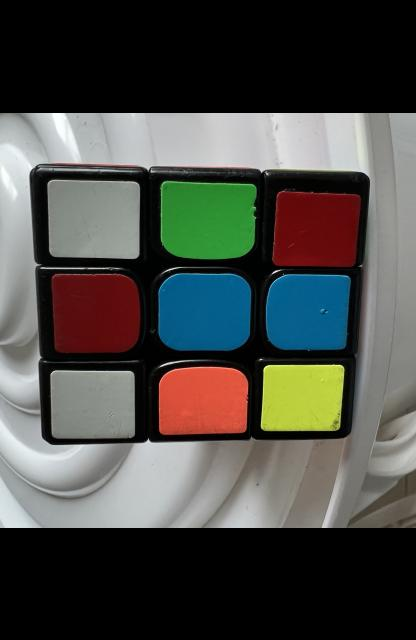Blue: (158, 272, 252, 349), (266, 273, 350, 349)
Green: (160, 180, 257, 258)
Orange: (159, 366, 248, 434)
Red: (52, 272, 140, 352), (273, 190, 360, 266)
White: (47, 178, 140, 258), (50, 370, 136, 438)
Yellow: (260, 363, 344, 430)
